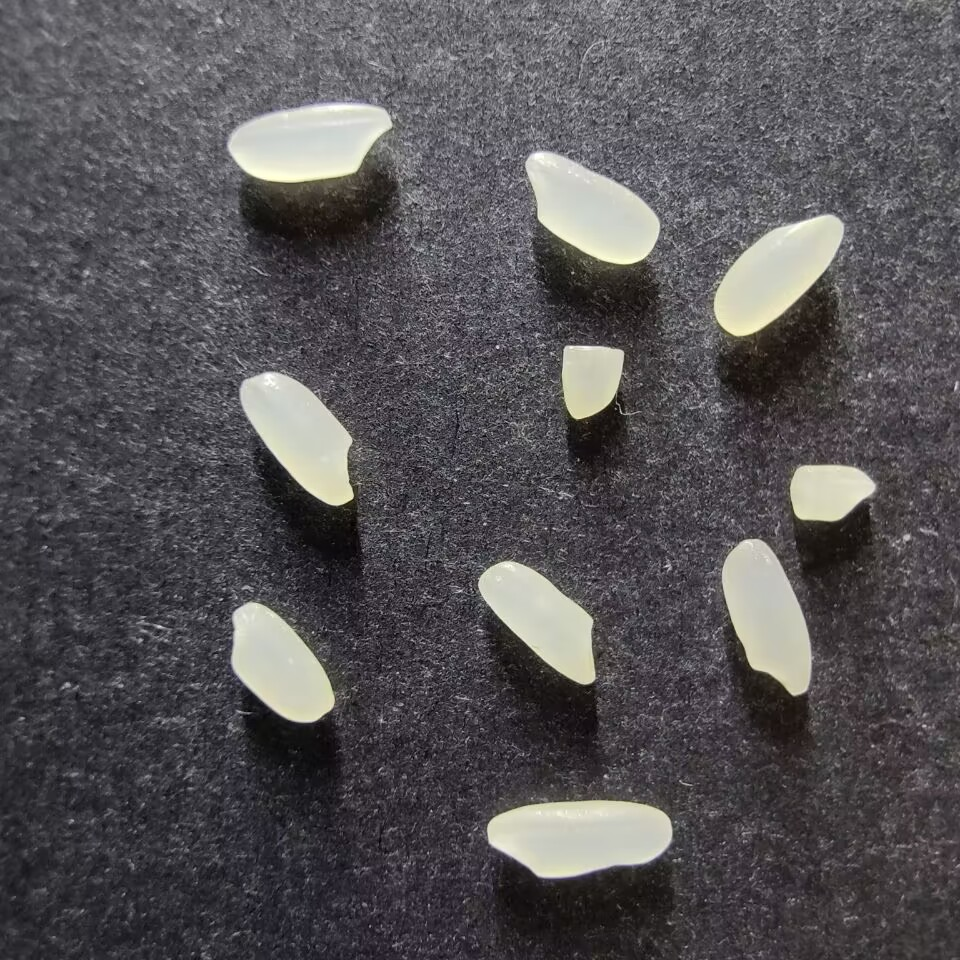broken: (789, 463, 876, 523), (560, 344, 624, 419)
rice: (712, 213, 845, 336), (239, 370, 355, 507), (524, 149, 660, 265), (477, 559, 597, 685), (719, 537, 812, 696), (485, 799, 672, 878), (226, 103, 392, 182), (230, 601, 336, 723)
